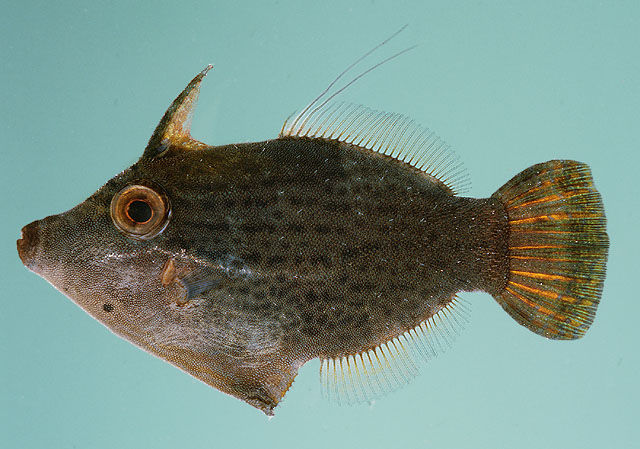fish: (17, 63, 611, 417)
